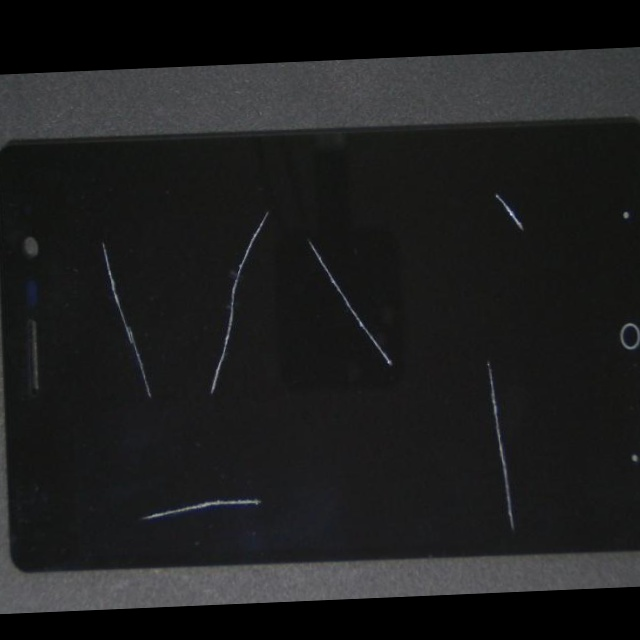scratch: (89, 66, 513, 424), (235, 328, 640, 604), (130, 305, 436, 608), (208, 86, 640, 298), (152, 59, 374, 374), (101, 320, 233, 481)
